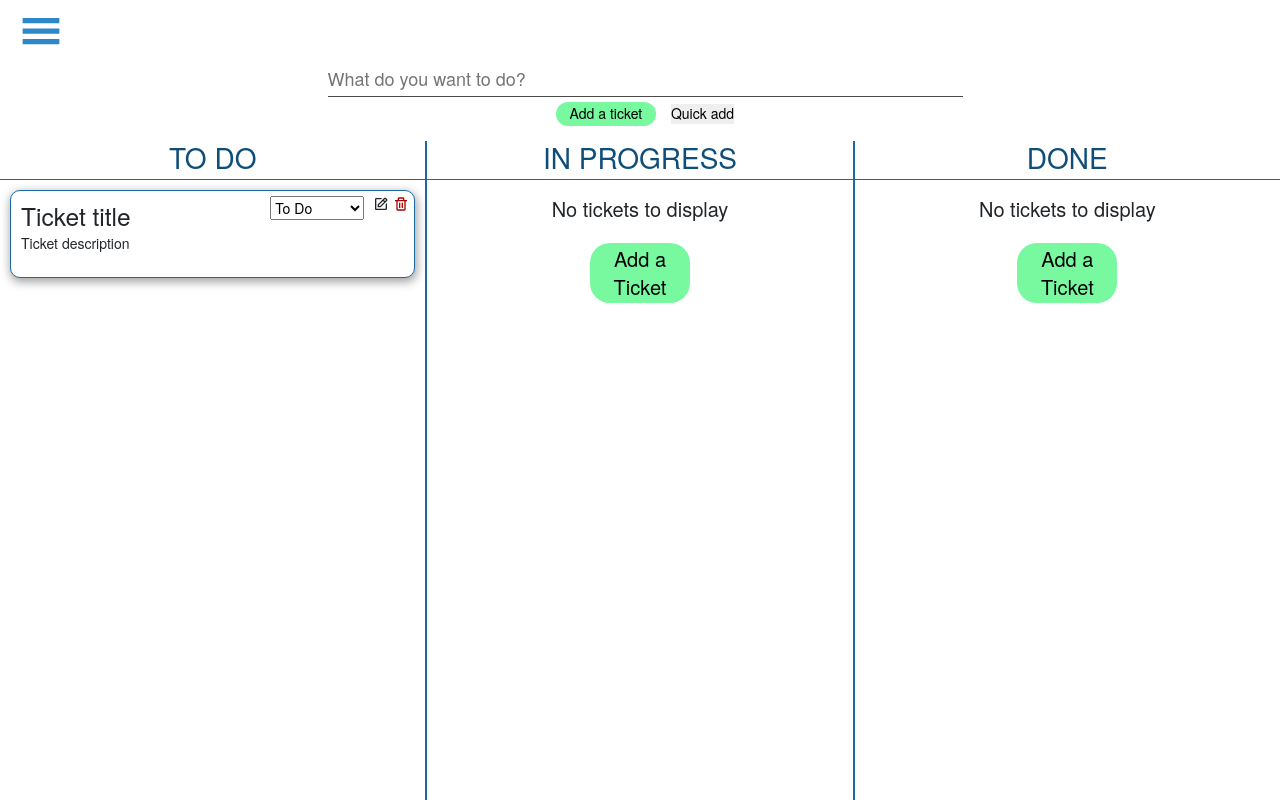
Scenario: Checks editing tickets function › Editing ticket using modal › user sees error when trying to edit ticket title with empty value
Click the icon with test id "edit-ticket-button".
click(381, 204)  # box [373,196,389,212]
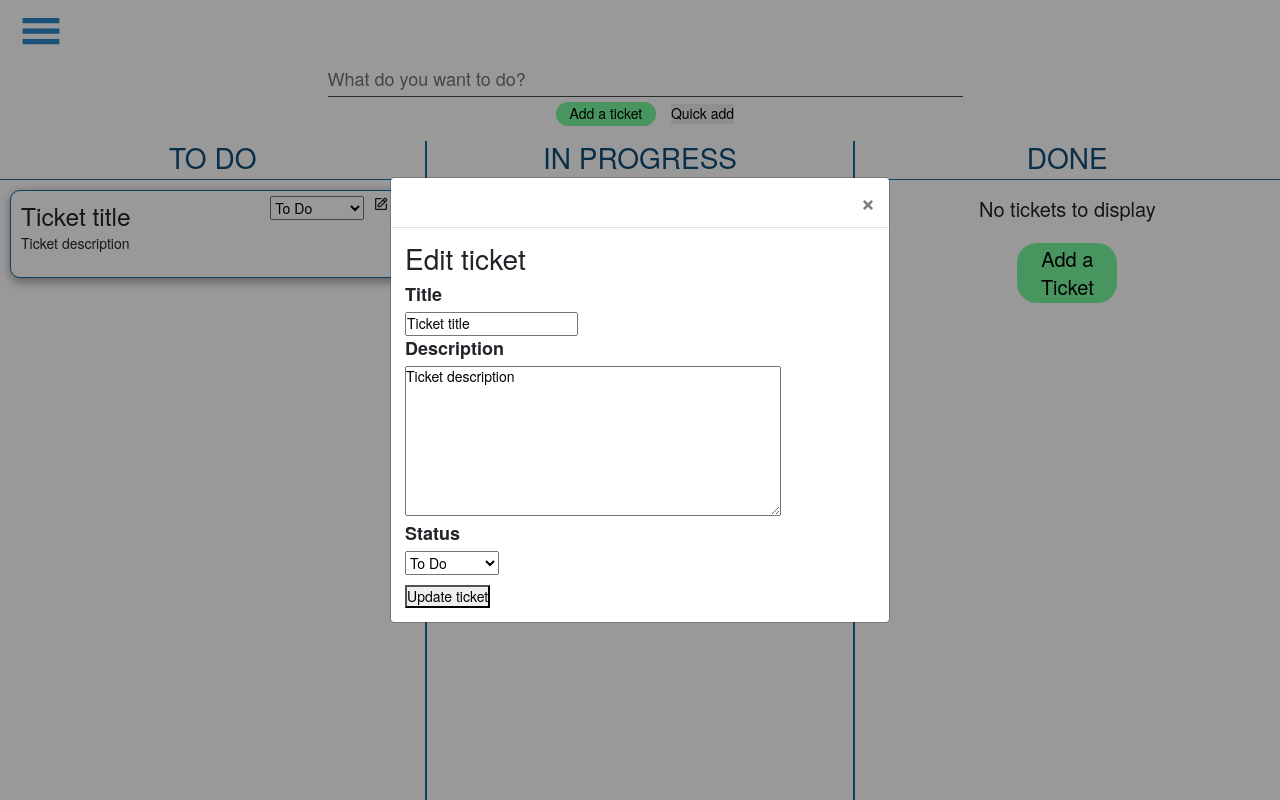
Clear the field with test id "modal-title-input" at (492, 324), box [405,312,578,336]
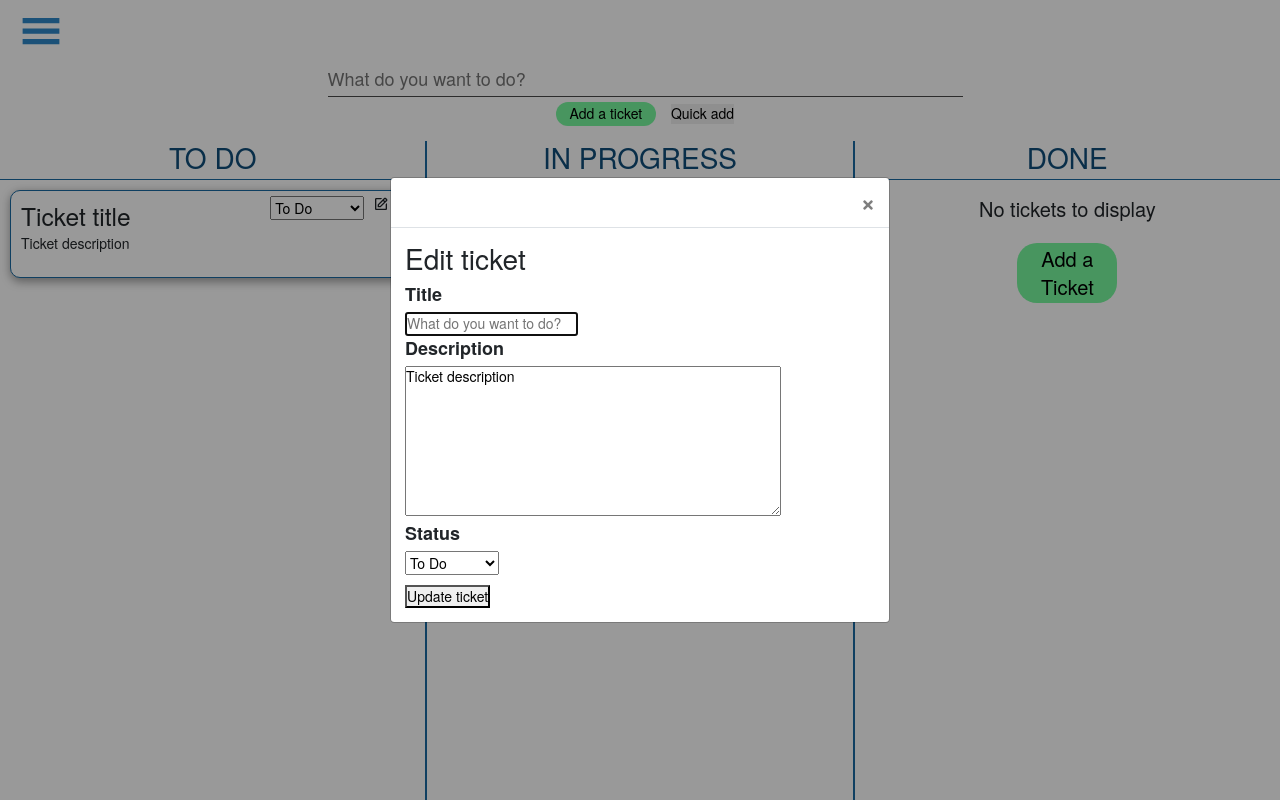
Click the button with test id "modal-submit-button".
click(448, 597)  # box [405,585,490,609]
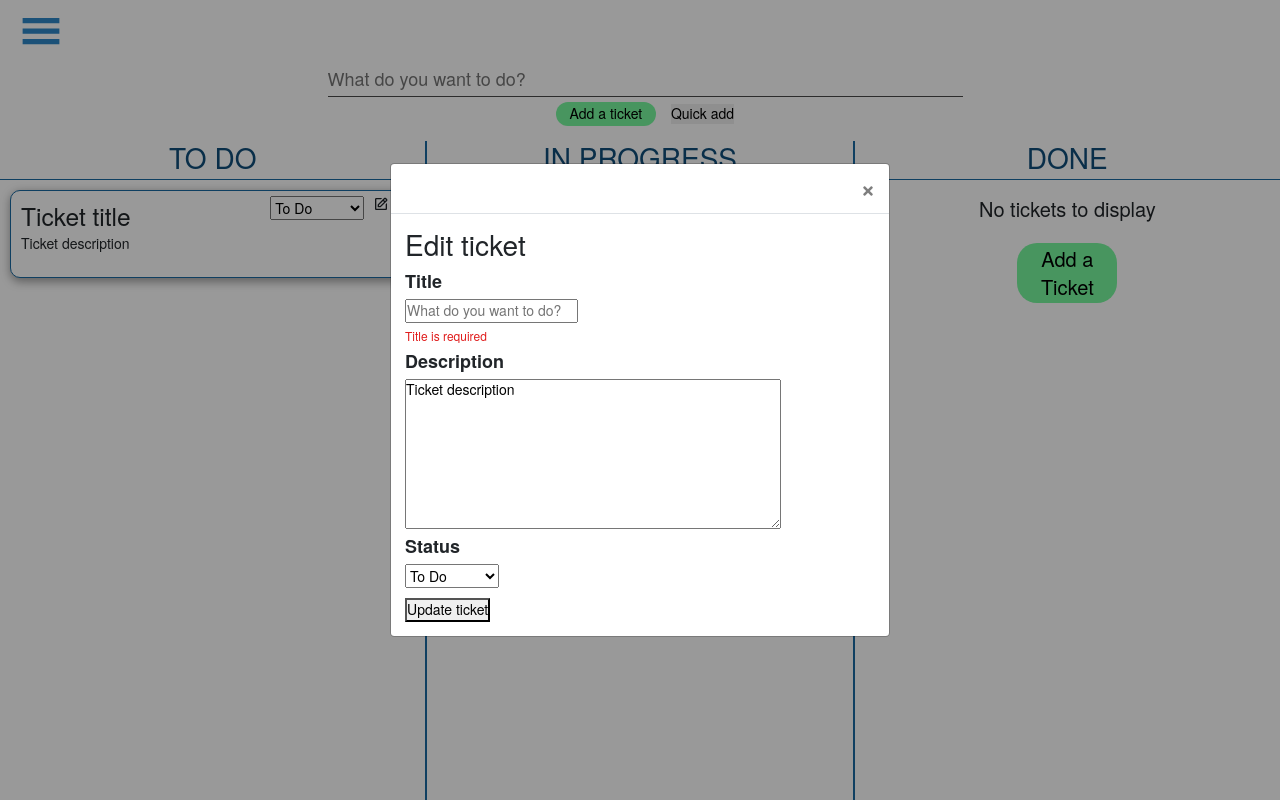
Expected: the text with test id "modal-title-input-error" reads "Title is required", [405,327,487,344]
